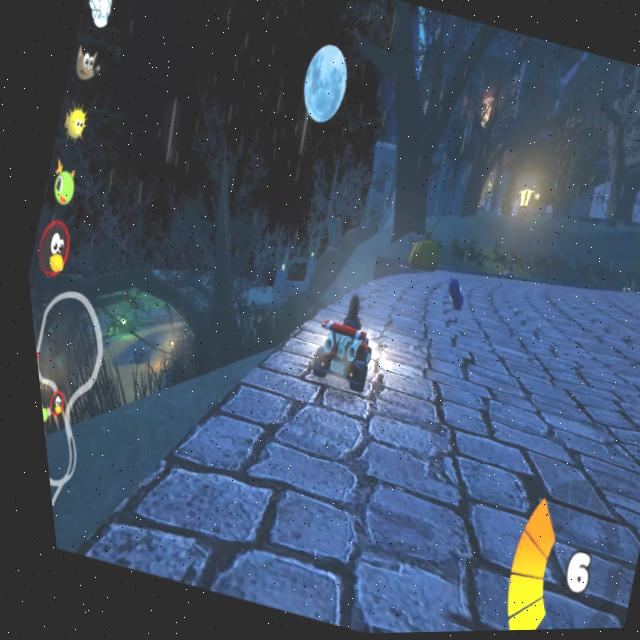nitro: (430, 269, 467, 314)
off_track: (85, 185, 304, 382)
player_kart: (293, 286, 384, 396)
track: (431, 245, 640, 463)
